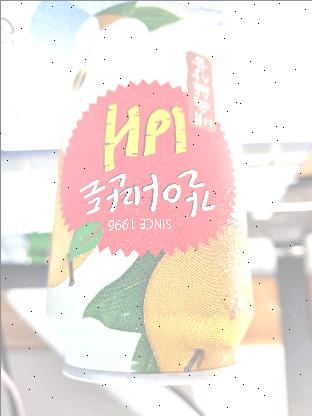Can: (58, 13, 246, 380)
